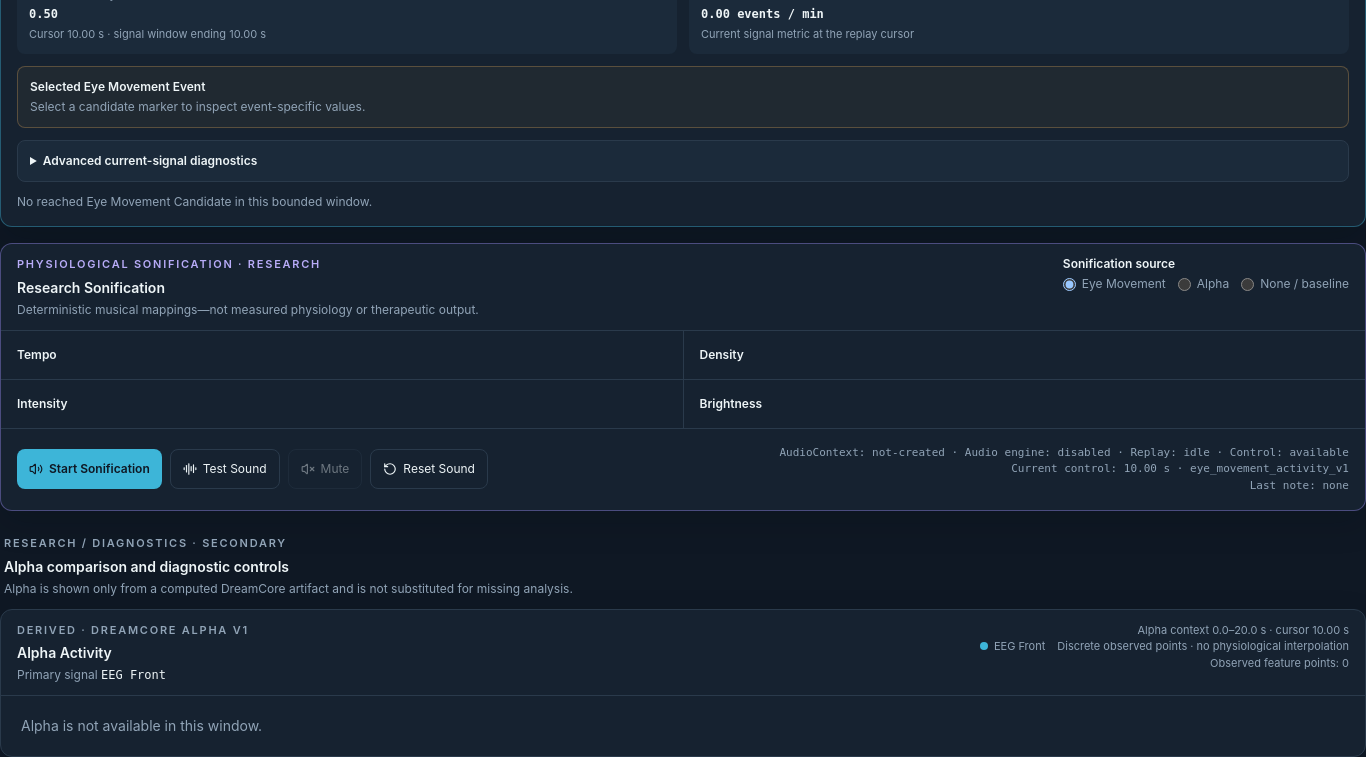
Test case: Eye Movement primary viewer integration › starts real Web Audio only on user action and supports comparison sources
(page scrolled)
Expected: the element with test id "sonification-panel" is shown, x1=0 y1=243 x2=1365 y2=511
Step 1. Click the button "Start Sonification" → (89, 469), box x1=17 y1=449 x2=162 y2=489
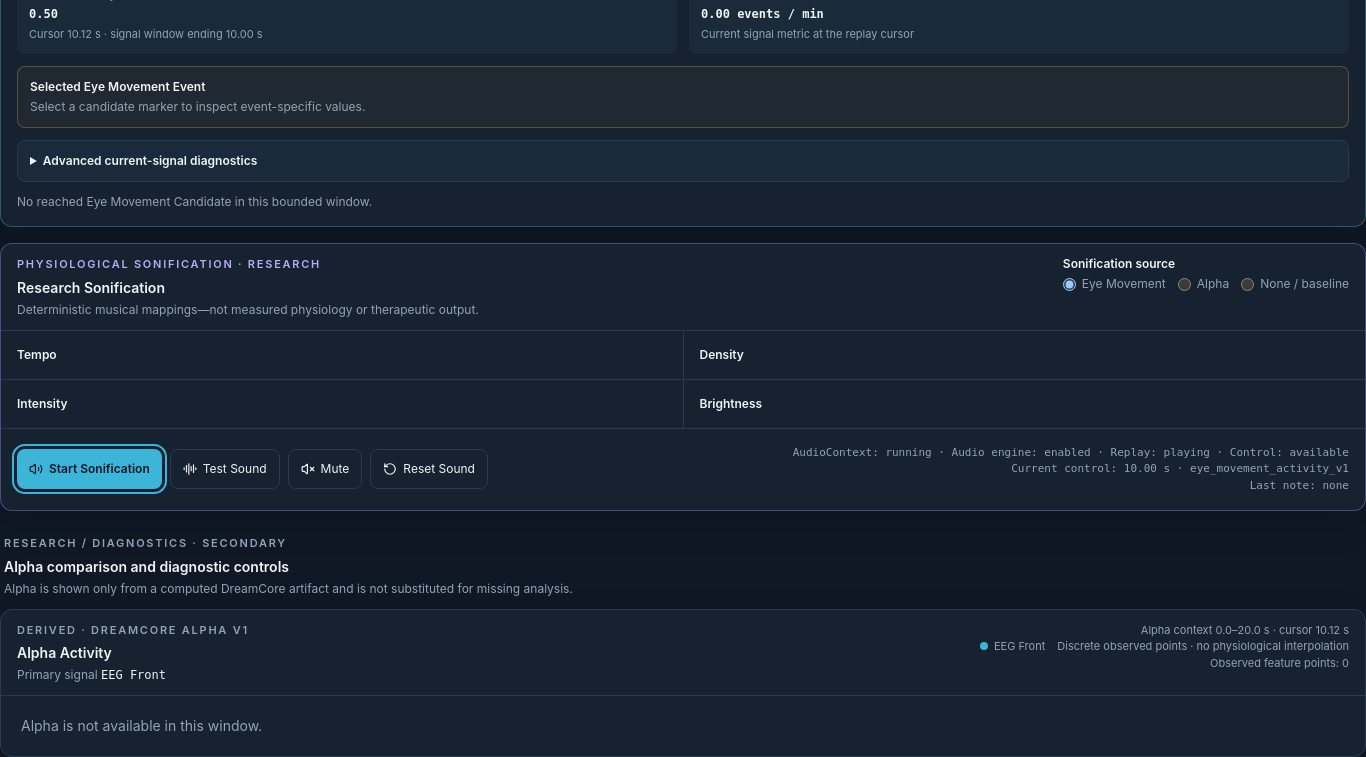
Now the text with test id "audio-state" shows "Audio engine: enabled", box x1=793 y1=444 x2=1349 y2=461
Now the text with test id "audio-state" shows "Replay: playing", box x1=793 y1=444 x2=1349 y2=461
Now the text with test id "audio-state" shows "AudioContext: running", box x1=793 y1=444 x2=1349 y2=461
Step 2. Click the radio button labelled "Alpha" → (1184, 284), box x1=1178 y1=278 x2=1191 y2=290
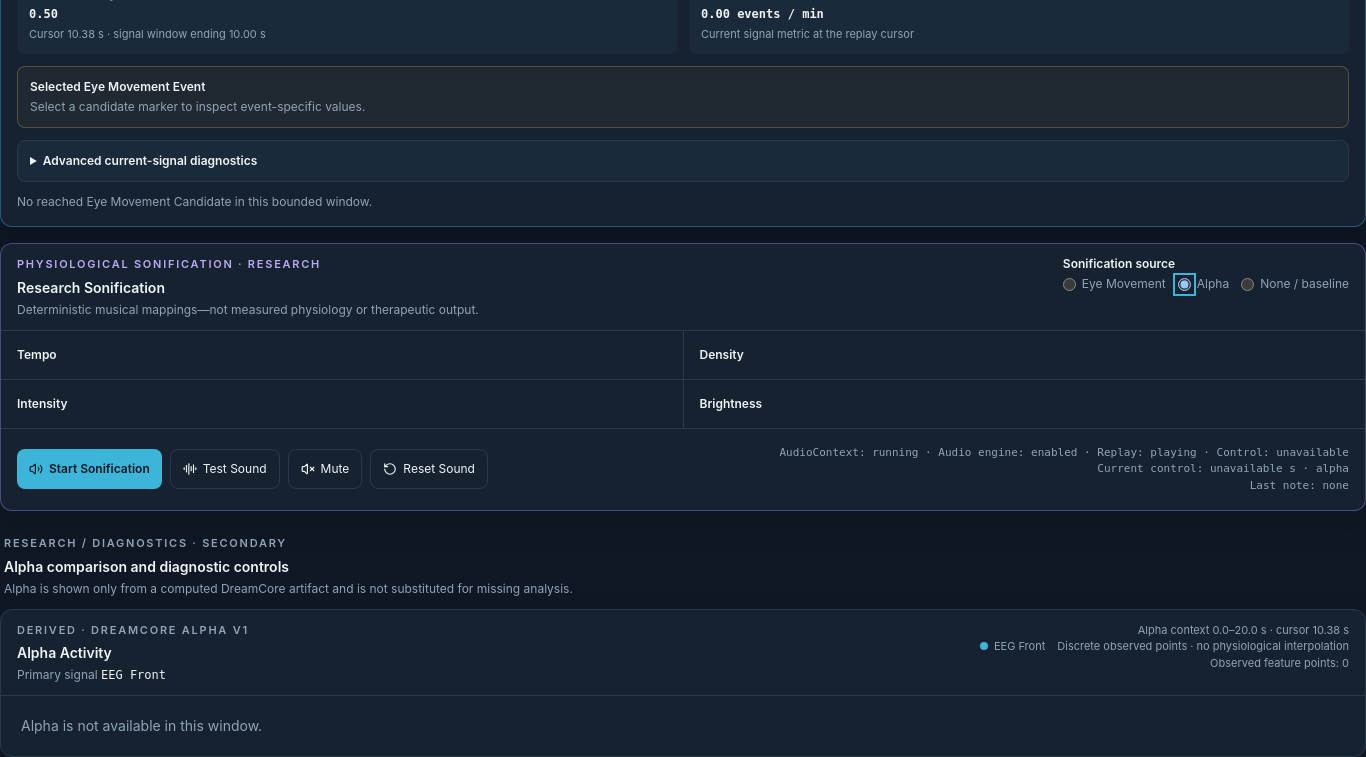
Now the element with test id "sonification-panel" has attribute data-source="alpha", box x1=0 y1=243 x2=1365 y2=511
Step 3. Click the radio button labelled "None / baseline" → (1248, 284), box x1=1241 y1=278 x2=1254 y2=290
(page scrolled)
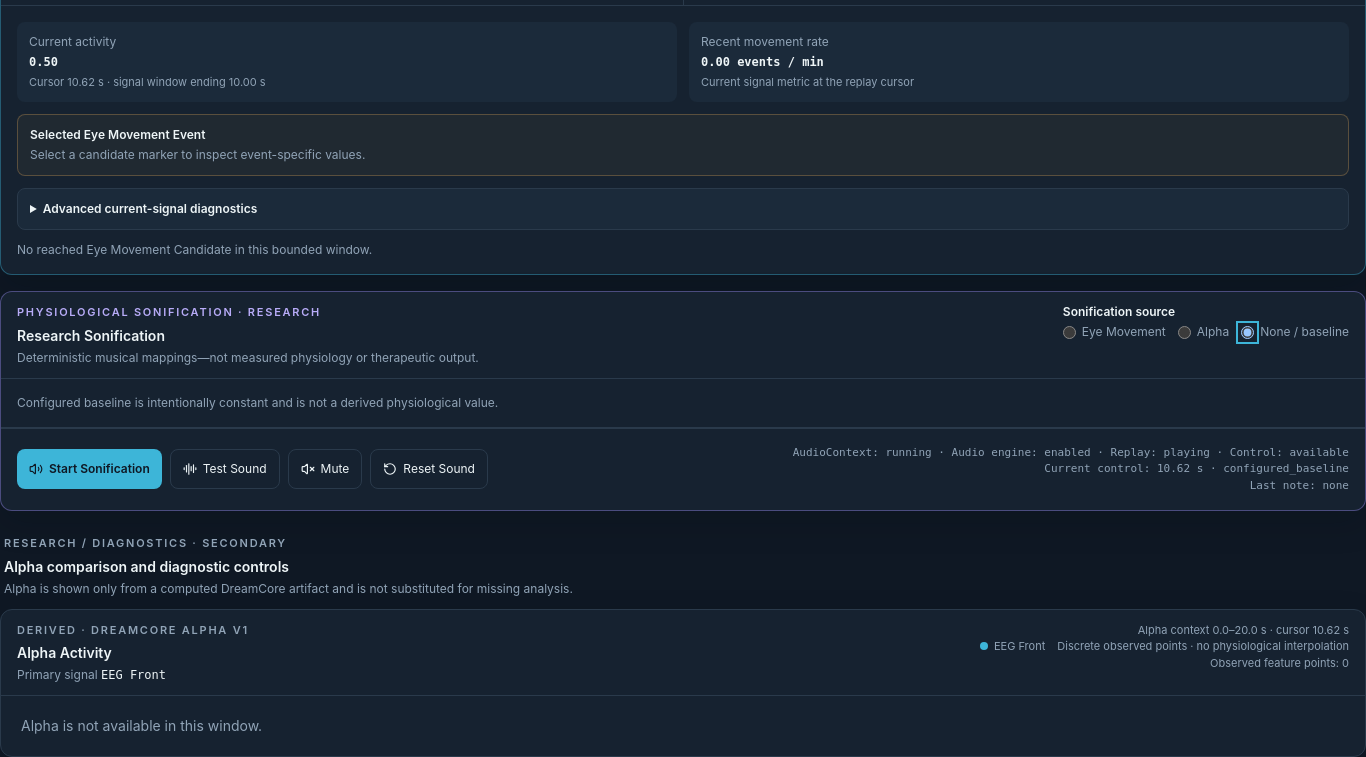
Now the text "intentionally constant" is shown, box x1=17 y1=394 x2=498 y2=410
Step 4. Click the button "Mute" → (325, 469), box x1=288 y1=449 x2=362 y2=489
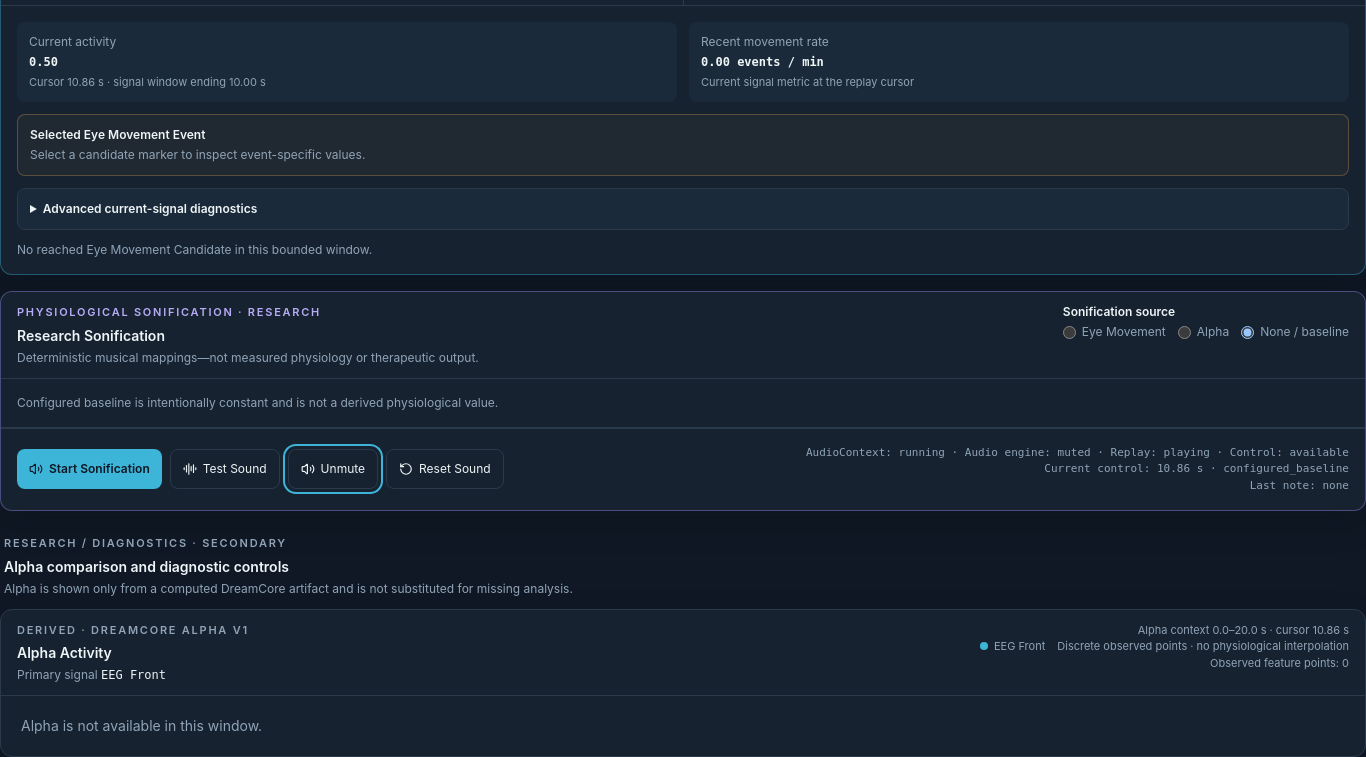
Now the text with test id "audio-state" shows "Audio engine: muted", box x1=806 y1=444 x2=1349 y2=461
Step 5. Click the button "Reset Sound" → (445, 469), box x1=386 y1=449 x2=504 y2=489
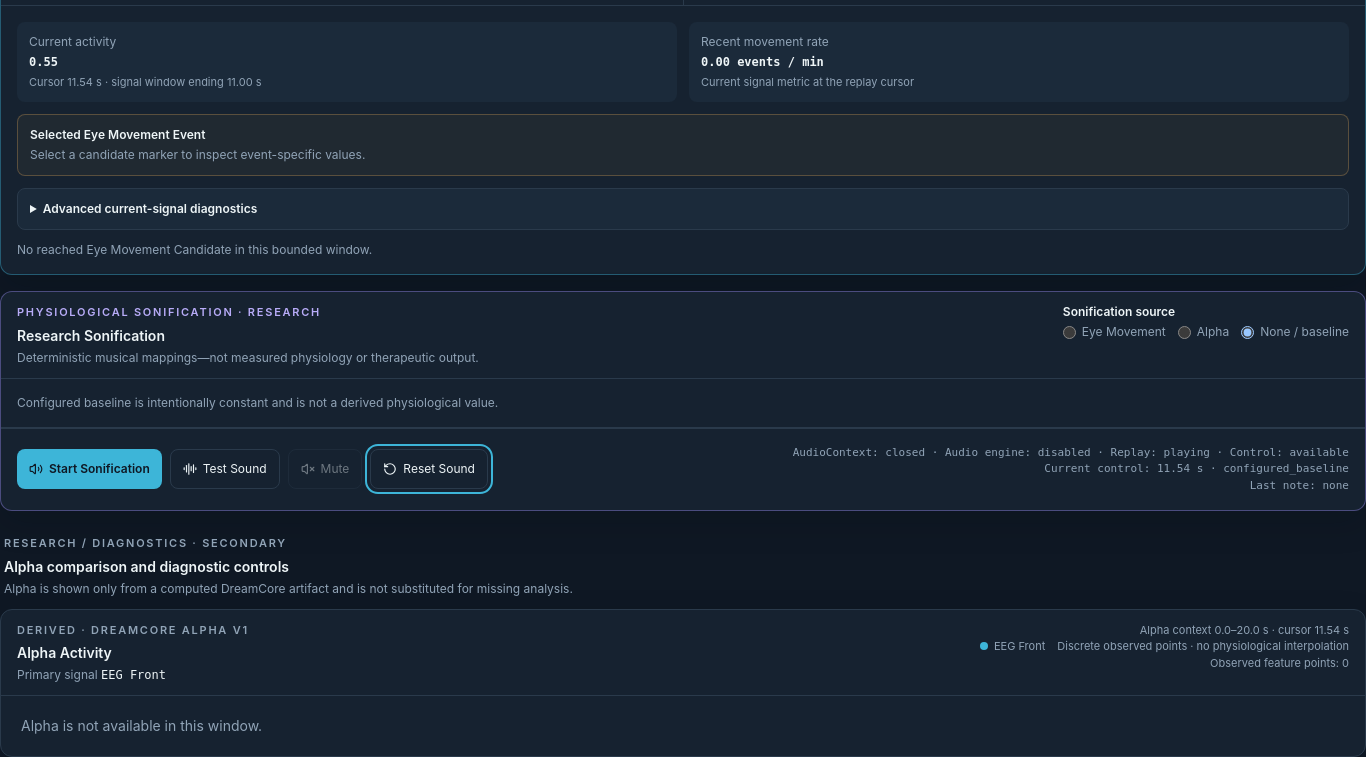
Now the text with test id "audio-state" shows "Audio engine: disabled", box x1=793 y1=444 x2=1349 y2=461
